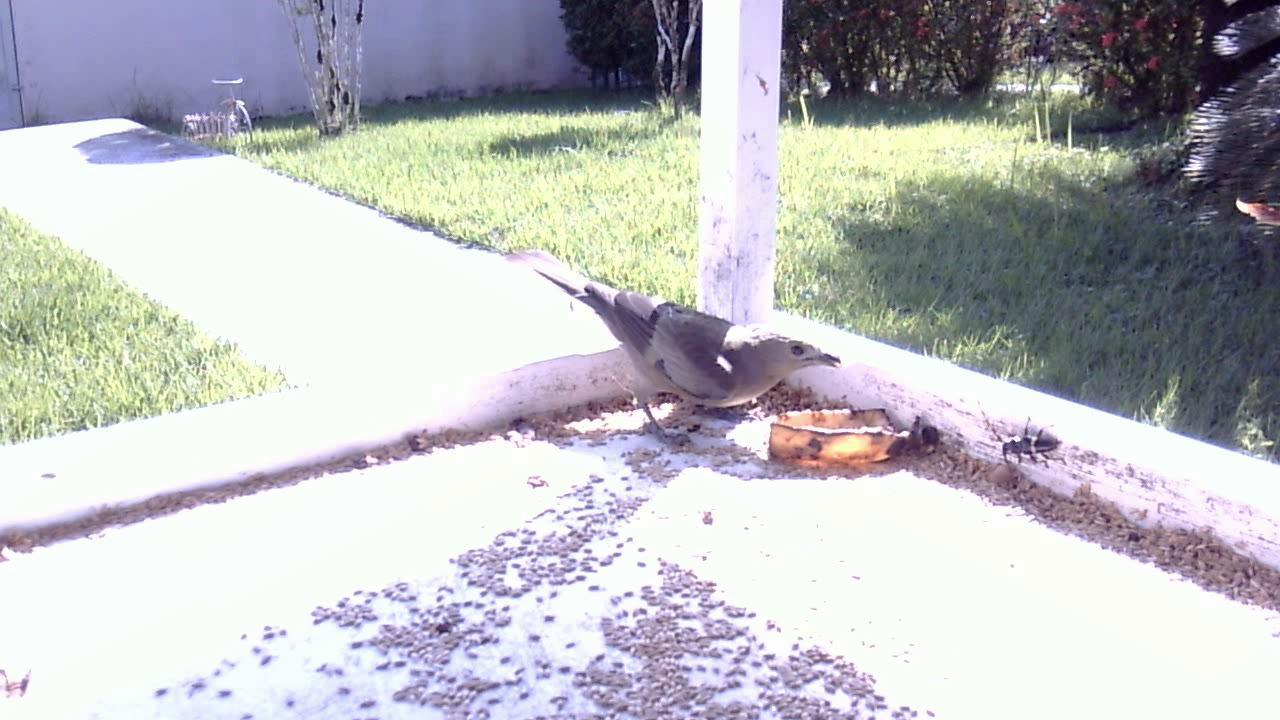sanhaco_do_coqueiro: (510, 261, 848, 450)
